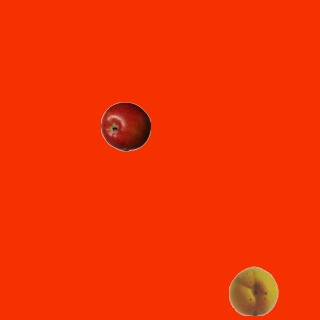Apple Braeburn: (100, 101, 150, 151)
Peach 2: (228, 265, 278, 315)
